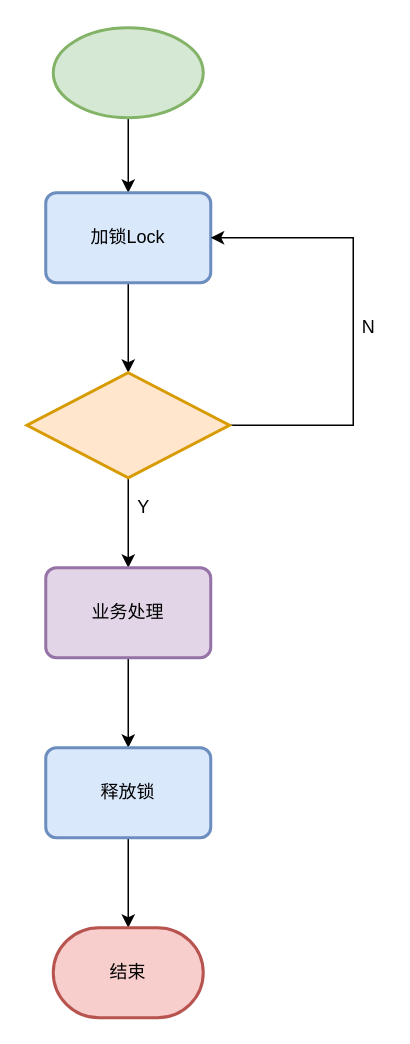
The diagram is 410 pixels wide and 1044 high, and some of its shapes have lost their labels. Each missing label, with the centre of its shape:
"tryLock" belongs at pixel 127 424.
"开始" belongs at pixel 127 72.
